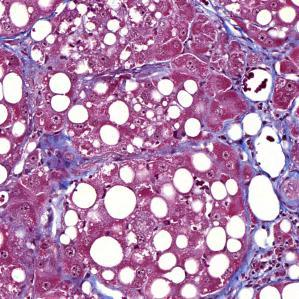fibrosis: (213, 41, 296, 119), (30, 132, 106, 186)
